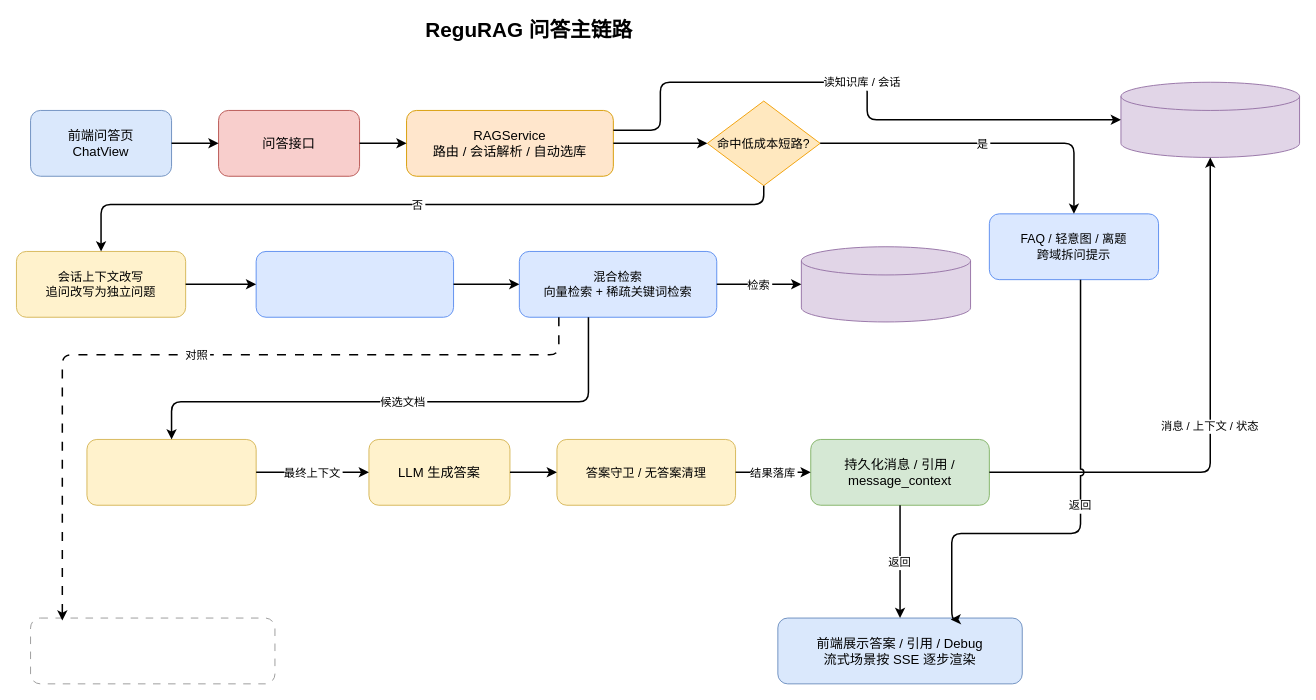
Image size: 1316x700. Some labels were removed from this diagram. Here are the shapes that lost their labels. From the top down, the centre of each, then its label:
At (x=1210, y=119): "MySQL 知识库 / 会话 / 历史消息".
At (x=354, y=284): "查询预处理 改写 / 别名扩展 / 关键词抽取".
At (x=885, y=284): "Chroma / Milvus 向量索引".
At (x=171, y=472): "MMR 去冗余 / 重排 挑选最终上下文".
At (x=152, y=650): "Shadow Graph 对照链路 仅灰度比对，不直接改用户答案".
